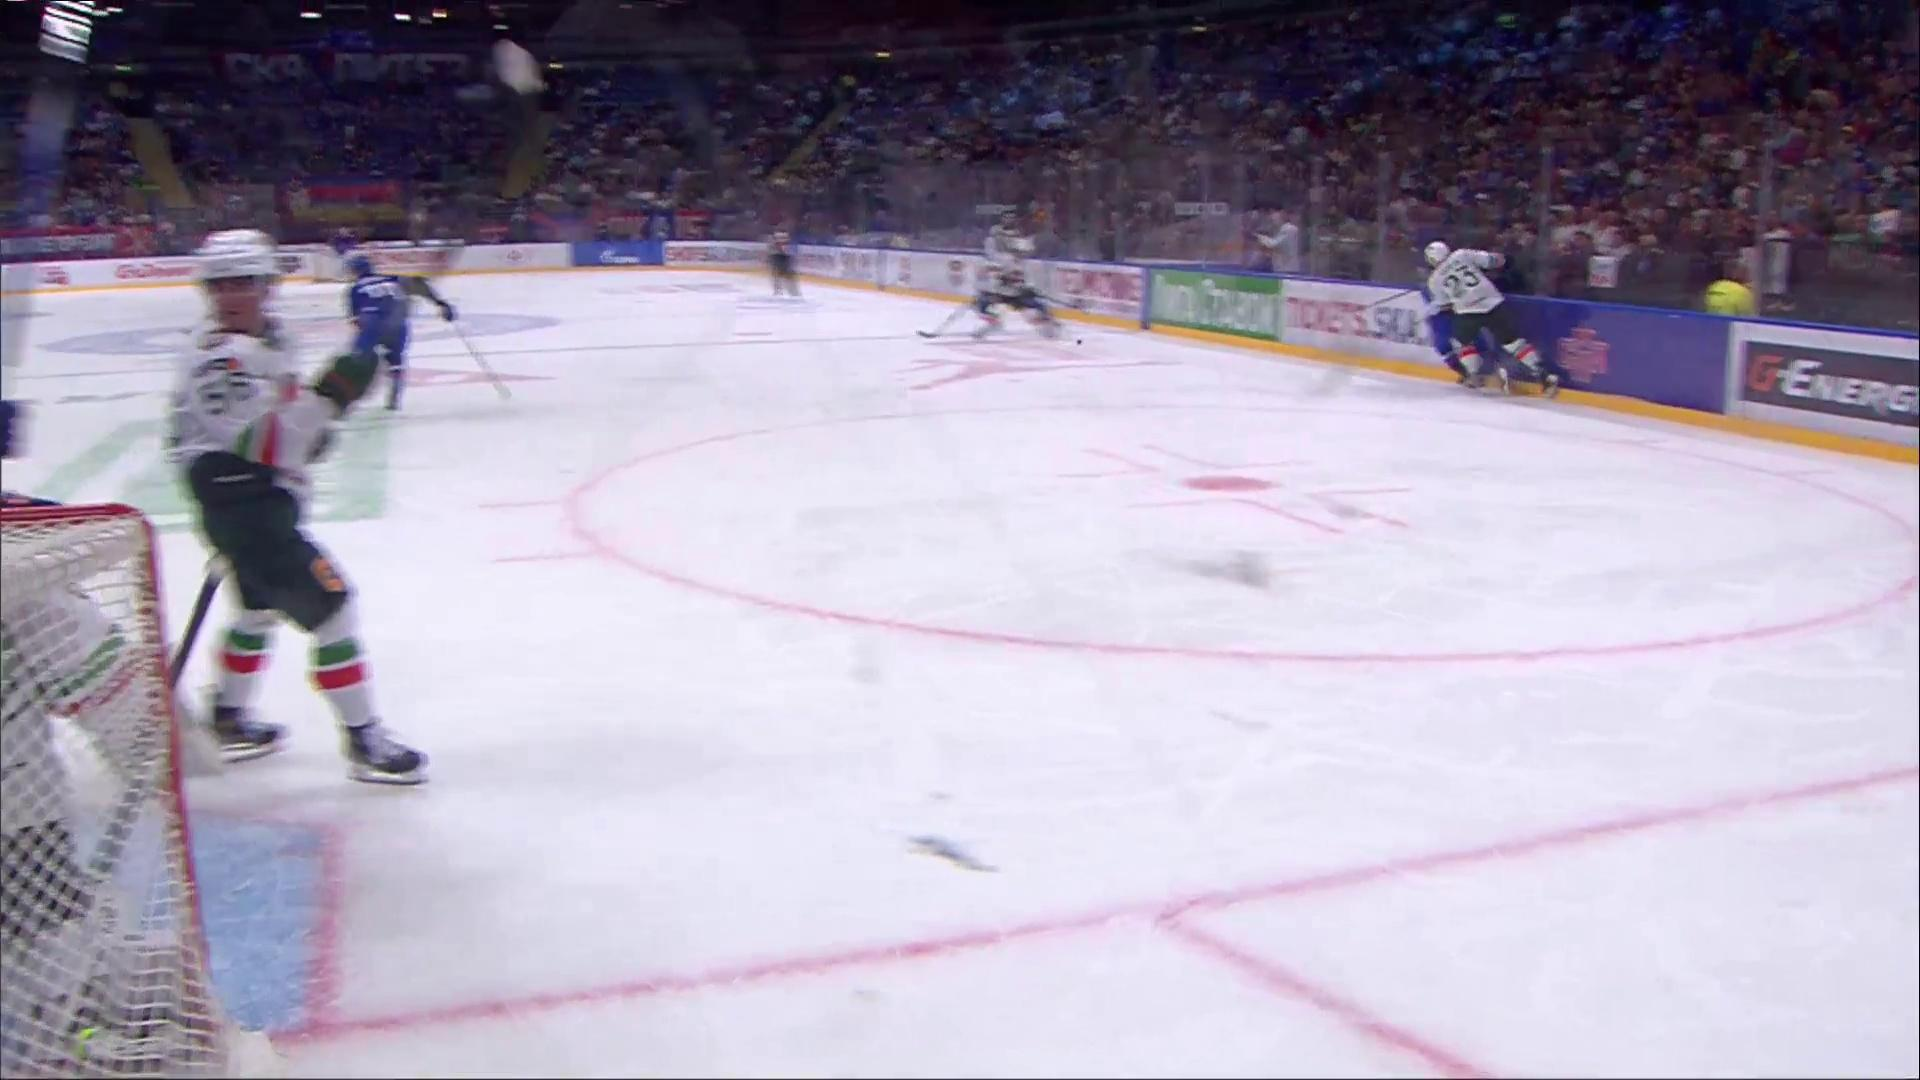ball: (1076, 339, 1083, 345)
